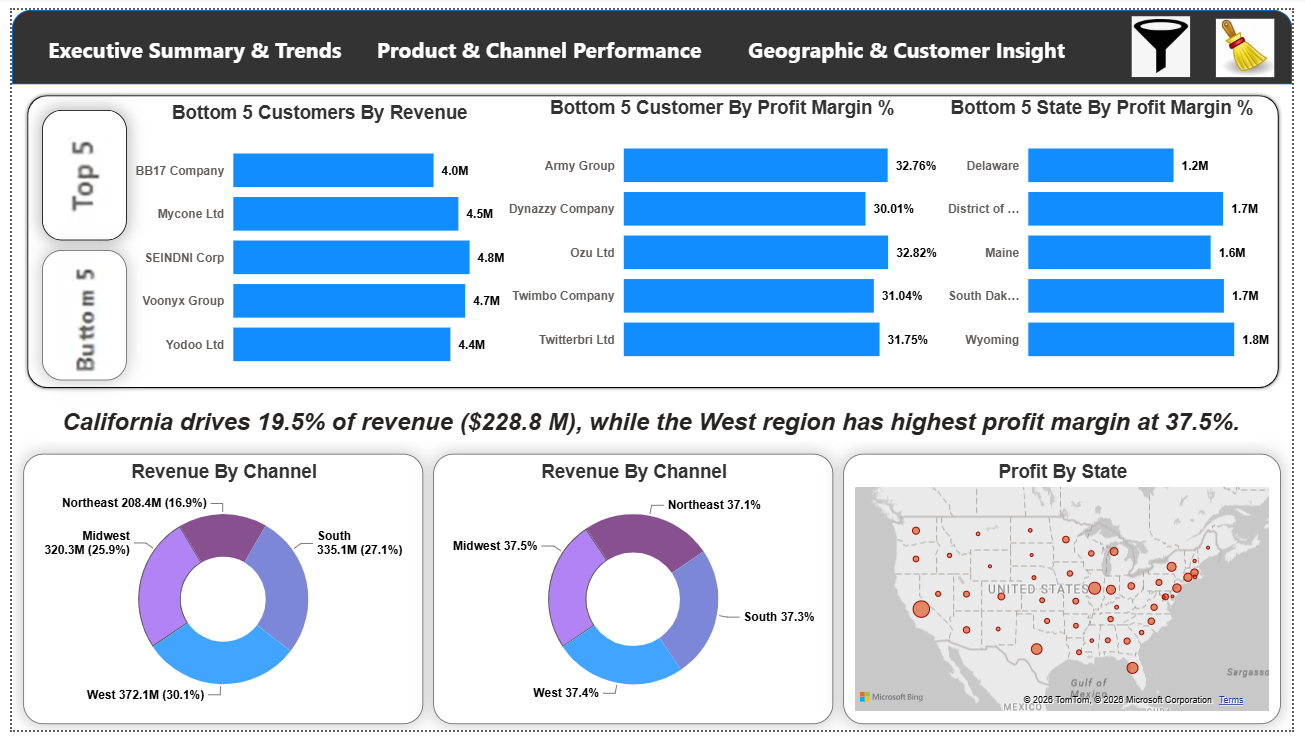

The dashboard page shown, as its layout file describes it:
{"tool":"powerbi","page":{"name":"Geographic & Customer Insight","canvas":[1280,720],"ordinal":2},"visuals":[{"type":"shape","box":[0,0,1280.3,74.6],"z":0},{"type":"image","box":[1112.8,6.1,73.4,61.1],"z":1000},{"type":"image","box":[1197.2,8.6,70.9,58.7],"z":2000},{"type":"textbox","box":[31.8,19.6,310.6,47.7],"z":3000},{"type":"textbox","box":[359.5,19.6,351,47.7],"z":4000},{"type":"textbox","box":[731.3,19.6,371.7,47.7],"z":5000},{"type":"actionButton","box":[31.8,19.6,310.6,47.7],"z":6000},{"type":"actionButton","box":[359.5,20.8,344.8,47.7],"z":7000},{"type":"shape","box":[11,80.7,1259.5,300.8],"z":8000},{"type":"image","box":[30,100,85,130.4],"z":9000},{"type":"image","box":[30,240,85,130.4],"z":10000},{"type":"actionButton","box":[27.4,240.1,90.6,138.6],"z":14000},{"type":"clusteredBarChart","title":"Bottom 5 Customers By Revenue","fields":{"Category":["B2_Mini_Mart.customer_names"],"Y":["Sum(B2_Mini_Mart.Revenue)"]},"box":[117.4,92.9,380.3,282.5],"z":15000},{"type":"clusteredBarChart","title":"Bottom 5 Customer By Profit Margin %","fields":{"Category":["B2_Mini_Mart.customer_names"],"Y":["Measure Table.profit_margin"]},"box":[490.4,88,440.2,282.5],"z":16000},{"type":"clusteredBarChart","title":"Bottom 5 State By Profit Margin %","fields":{"Category":["B2_Mini_Mart.state"],"Y":["Sum(B2_Mini_Mart.Revenue)"]},"box":[917.1,88,344.8,282.5],"z":17000},{"type":"actionButton","box":[26.9,92.9,91.7,138.2],"z":18000},{"type":"donutChart","title":"Revenue By Channel","fields":{"Y":["Sum(B2_Mini_Mart.Revenue)"],"Category":["B2_Mini_Mart.region"]},"box":[11.2,443.8,400,270],"z":19000},{"type":"donutChart","title":"Revenue By Channel","fields":{"Category":["B2_Mini_Mart.region"],"Y":["Measure Table.profit_margin"]},"box":[421,443.9,400,270.2],"z":20000},{"type":"map","title":"Profit By State","fields":{"Size":["Sum(B2_Mini_Mart.Profit)"],"Category":["B2_Mini_Mart.state"]},"box":[831.2,443.8,437.5,270],"z":21000},{"type":"textbox","box":[27.5,393.8,1222.5,37.5],"z":22000},{"type":"actionButton","box":[1197.5,1.2,71.2,66.2],"z":23000}]}

Visuals, with their boxes in screenshot pixels (x1, y1, x2, y2), scaled from the page's 1280x720 canvas onto the 1305x736 screenshot:
shape: [0, 0, 1304, 76]
image: [1135, 6, 1209, 69]
image: [1221, 9, 1293, 69]
textbox: [32, 20, 349, 69]
textbox: [367, 20, 724, 69]
textbox: [746, 20, 1125, 69]
actionButton: [32, 20, 349, 69]
actionButton: [367, 21, 718, 70]
shape: [11, 82, 1295, 390]
image: [31, 102, 117, 236]
image: [31, 245, 117, 379]
actionButton: [28, 245, 120, 387]
"Bottom 5 Customers By Revenue" clusteredBarChart: [120, 95, 507, 384]
"Bottom 5 Customer By Profit Margin %" clusteredBarChart: [500, 90, 949, 379]
"Bottom 5 State By Profit Margin %" clusteredBarChart: [935, 90, 1287, 379]
actionButton: [27, 95, 121, 236]
"Revenue By Channel" donutChart: [11, 454, 419, 730]
"Revenue By Channel" donutChart: [429, 454, 837, 730]
"Profit By State" map: [847, 454, 1293, 730]
textbox: [28, 403, 1274, 441]
actionButton: [1221, 1, 1293, 69]
